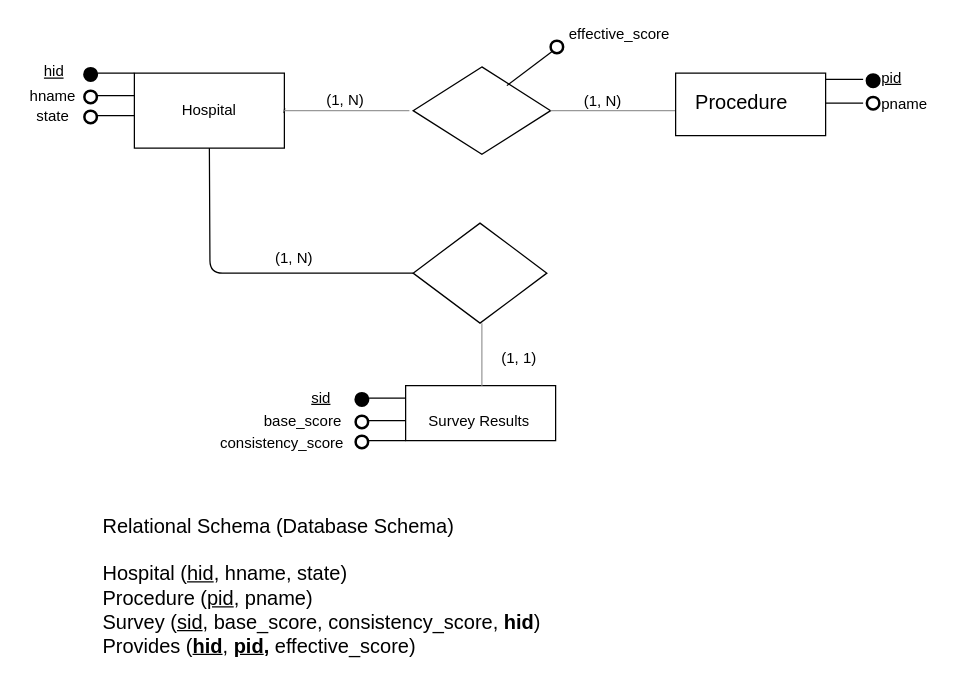
The diagram is 963 pixels wide and 679 high, and some of its shapes have lost their labels. The box of each missing label's shape, as (x1, y1, x2, y2) in pixels:
about: (412, 222, 547, 323)
provides: (412, 66, 551, 154)
